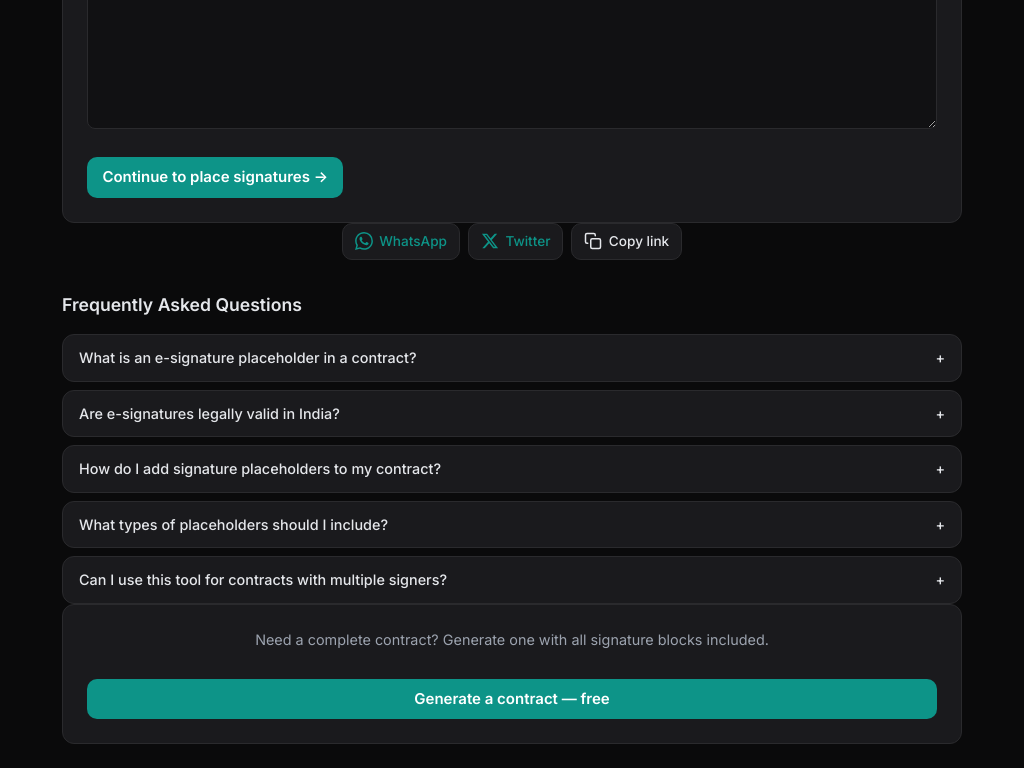
Test: ESignaturePlaceholderPage › toggles FAQ answers
(page scrolled)
Click the button "Are e-signatures legally valid in India?". click: (209, 413)
box: [63,391,961,436]
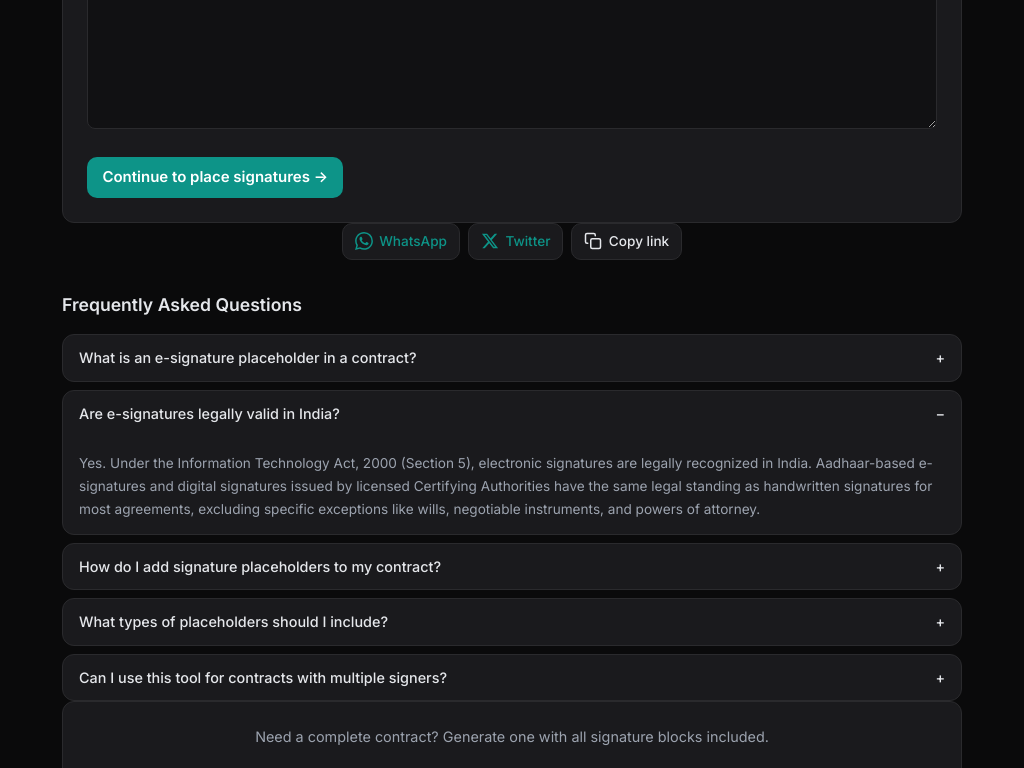
expect the text "Information Technology Act, 2000" is shown: met, box [79,455,933,517]
Click the button "Are e-signatures legally valid in India?". click: (209, 413)
box: [63,391,961,436]
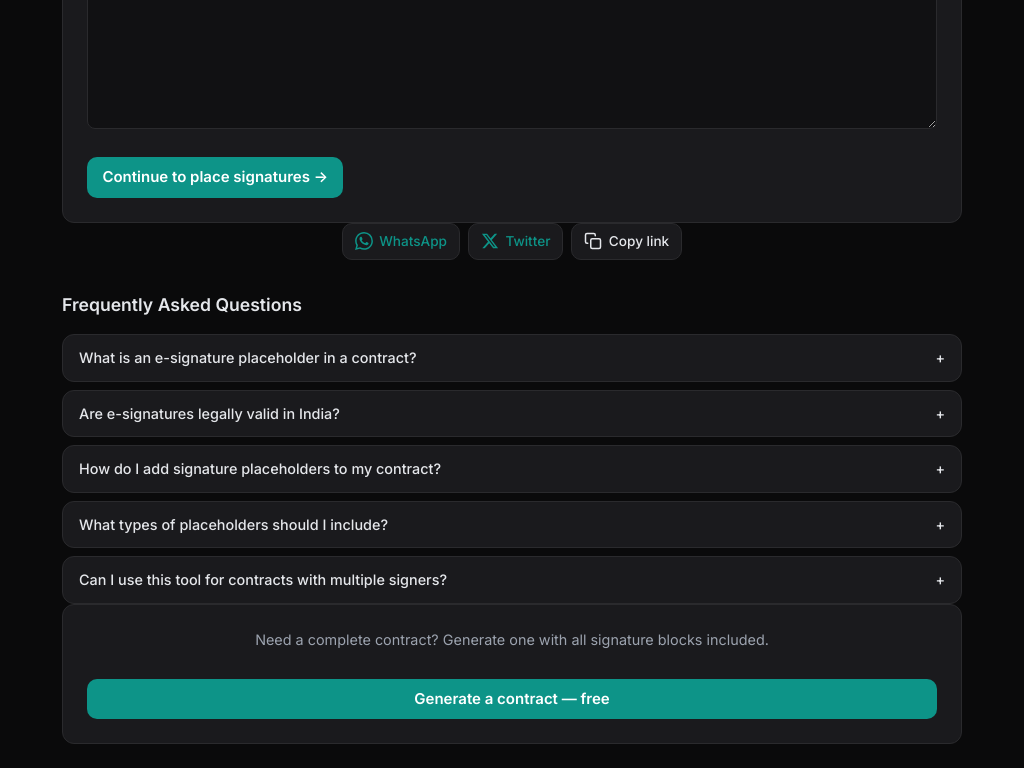
expect the text "Information Technology Act, 2000" is gone: met
